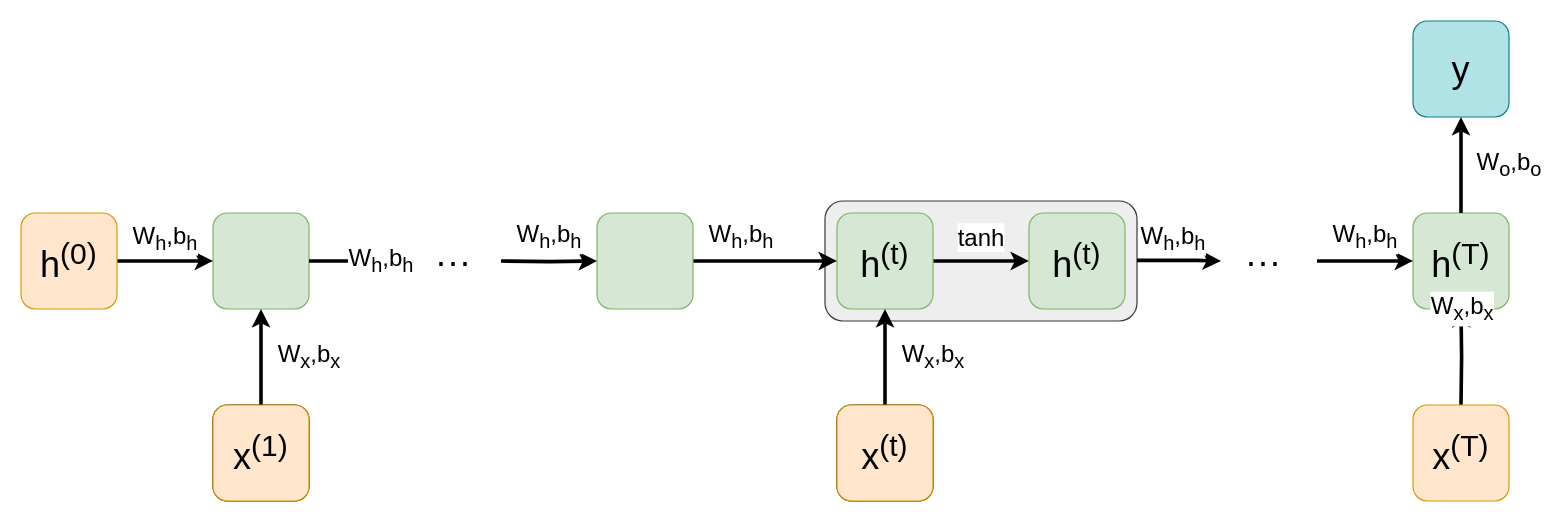
This 1562x522 diagram has some shape labels left out. Each missing label, with the box of its shape:
h (1): (212, 212, 309, 309)
h (t-1): (596, 212, 693, 309)
